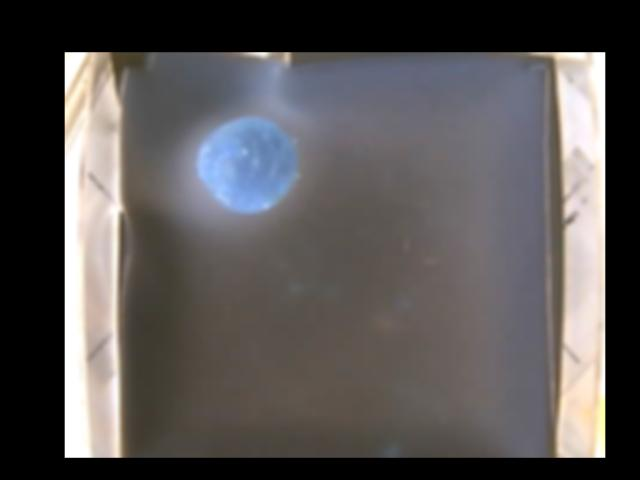Potato: (197, 118, 302, 210)
